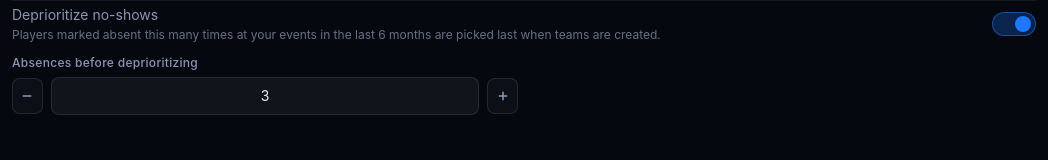
NoShowDeprioritizationFields › hides the limit again when toggled off
Click the switch at coordinates (1014, 24), box left=992, top=12, right=1036, bottom=36
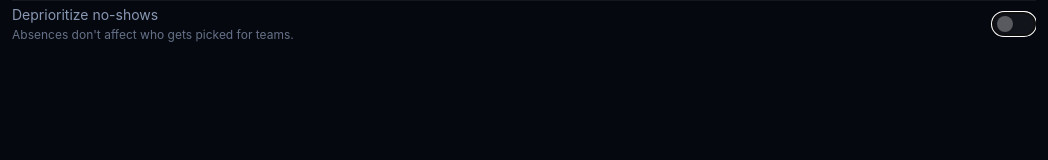
Result: the label labelled "Absences before deprioritizing" is gone
